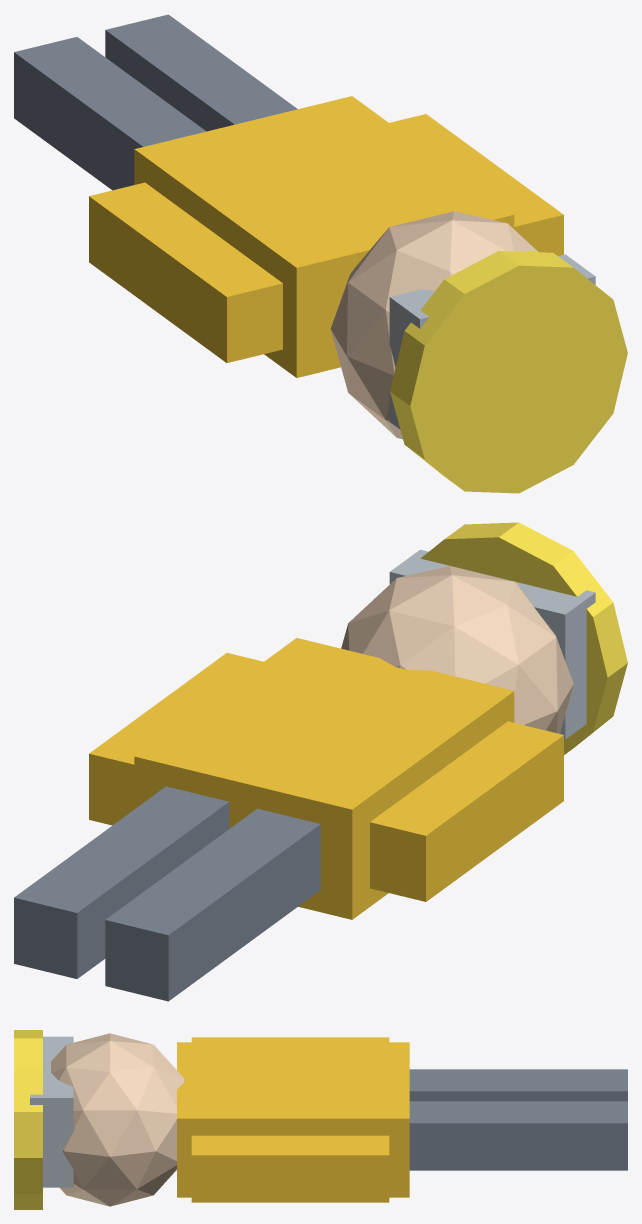
Rendered from safety_variant_5.glb.
3 renders of one model, top to bottom at view 1: azimuth 30°, elevation 25°; view 2: azimuth 150°, elevation 25°; view 3: azimuth 270°, elevation 25°, orthographic. The views are drawn at different scales.
Parts seen in each view (by area): view 1: torso_2, helmet_7, arm_l_3, leg_l_0, head_5, leg_r_1, arm_r_4, hair_6; view 2: torso_2, leg_l_0, head_5, arm_l_3, leg_r_1, helmet_7, arm_r_4, hair_6; view 3: torso_2, head_5, leg_r_1, arm_r_4, leg_l_0, helmet_7, hair_6, arm_l_3.
Part boxes in pixels (bbox=[...]): torso_2: bbox=[134, 96, 514, 377]; helmet_7: bbox=[390, 250, 627, 493]; arm_l_3: bbox=[89, 182, 282, 362]; leg_l_0: bbox=[14, 37, 206, 190]; head_5: bbox=[330, 211, 538, 439]; leg_r_1: bbox=[105, 14, 297, 131]; arm_r_4: bbox=[389, 114, 563, 255]; hair_6: bbox=[389, 254, 595, 429]; torso_2: bbox=[134, 638, 514, 919]; leg_l_0: bbox=[105, 808, 320, 1001]; head_5: bbox=[341, 566, 573, 733]; arm_l_3: bbox=[370, 721, 563, 901]; leg_r_1: bbox=[14, 786, 229, 978]; helmet_7: bbox=[420, 522, 627, 754]; arm_r_4: bbox=[89, 653, 263, 825]; hair_6: bbox=[389, 549, 595, 739]; torso_2: bbox=[177, 1042, 409, 1197]; head_5: bbox=[51, 1033, 184, 1206]; leg_r_1: bbox=[409, 1101, 627, 1170]; arm_r_4: bbox=[191, 1135, 389, 1202]; leg_l_0: bbox=[409, 1069, 627, 1101]; helmet_7: bbox=[14, 1030, 42, 1209]; hair_6: bbox=[30, 1036, 73, 1187]; arm_l_3: bbox=[191, 1037, 389, 1042].
Bounding box in the file's own units: 0.96 × 0.62 × 2.11.
